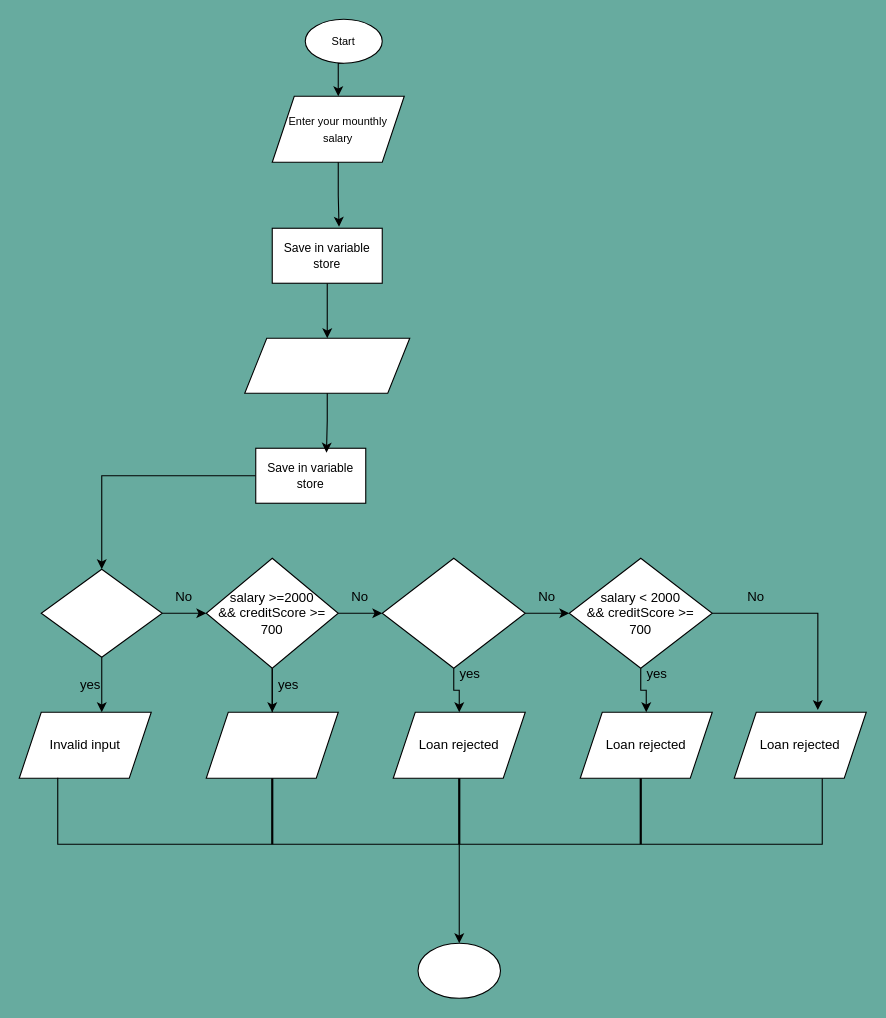
This 886x1018 diagram has some shape labels left out. Each missing label, with the centre of its shape:
"End" goes at (x=459, y=970).
"Enter your credit store" goes at (x=327, y=365).
"is NAN" goes at (x=101, y=612).
"Loan approved" goes at (x=271, y=744).
"salary >=2000 && creditScore < 700" goes at (x=453, y=612).
